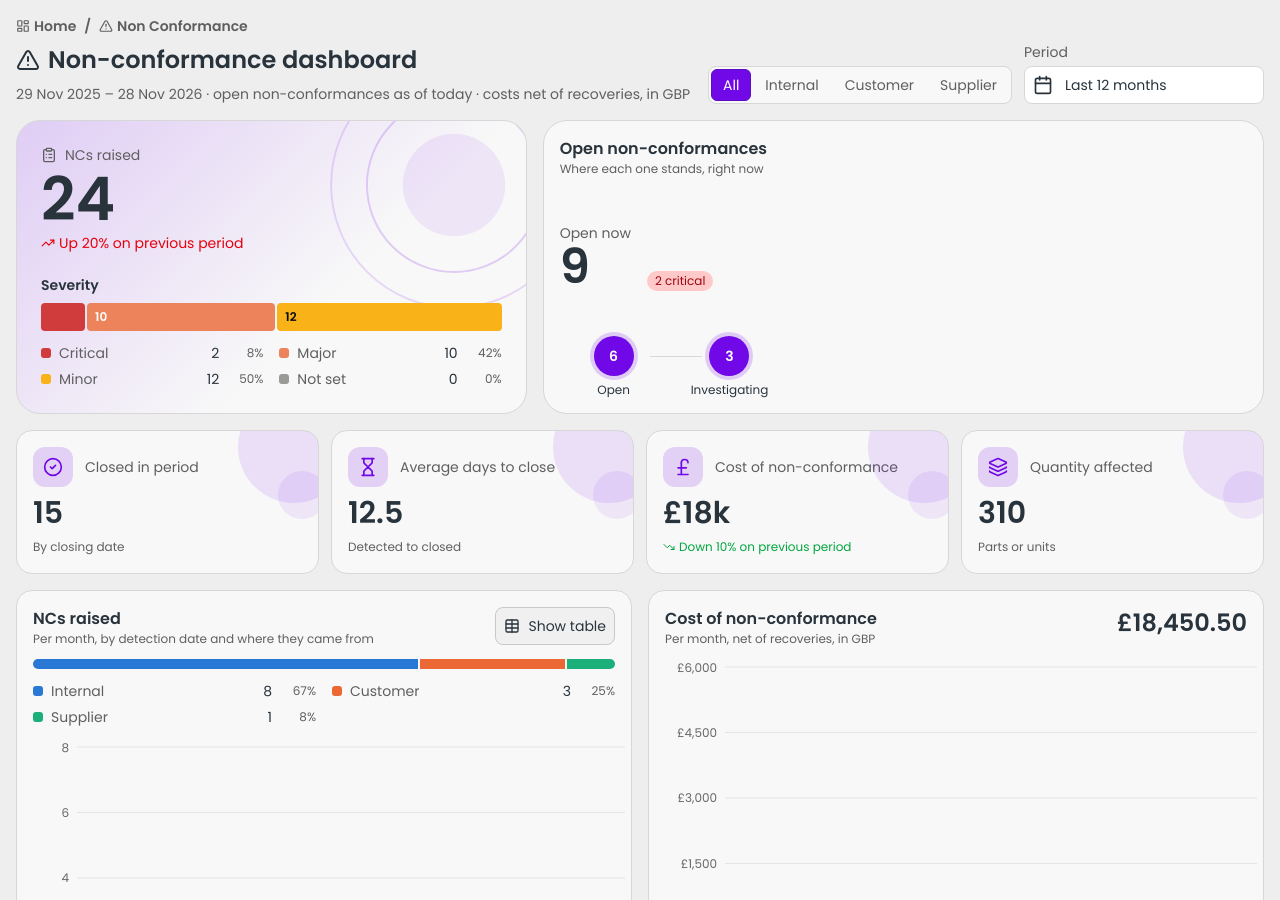
NC dashboard › filters by the Customer / Supplier tab and period, kept in the URL
Check: the link "NCs raised" is shown, box [16,120,527,414]
Click the radio button labelled "Customer".
click(879, 85)  # box [833,69,926,101]
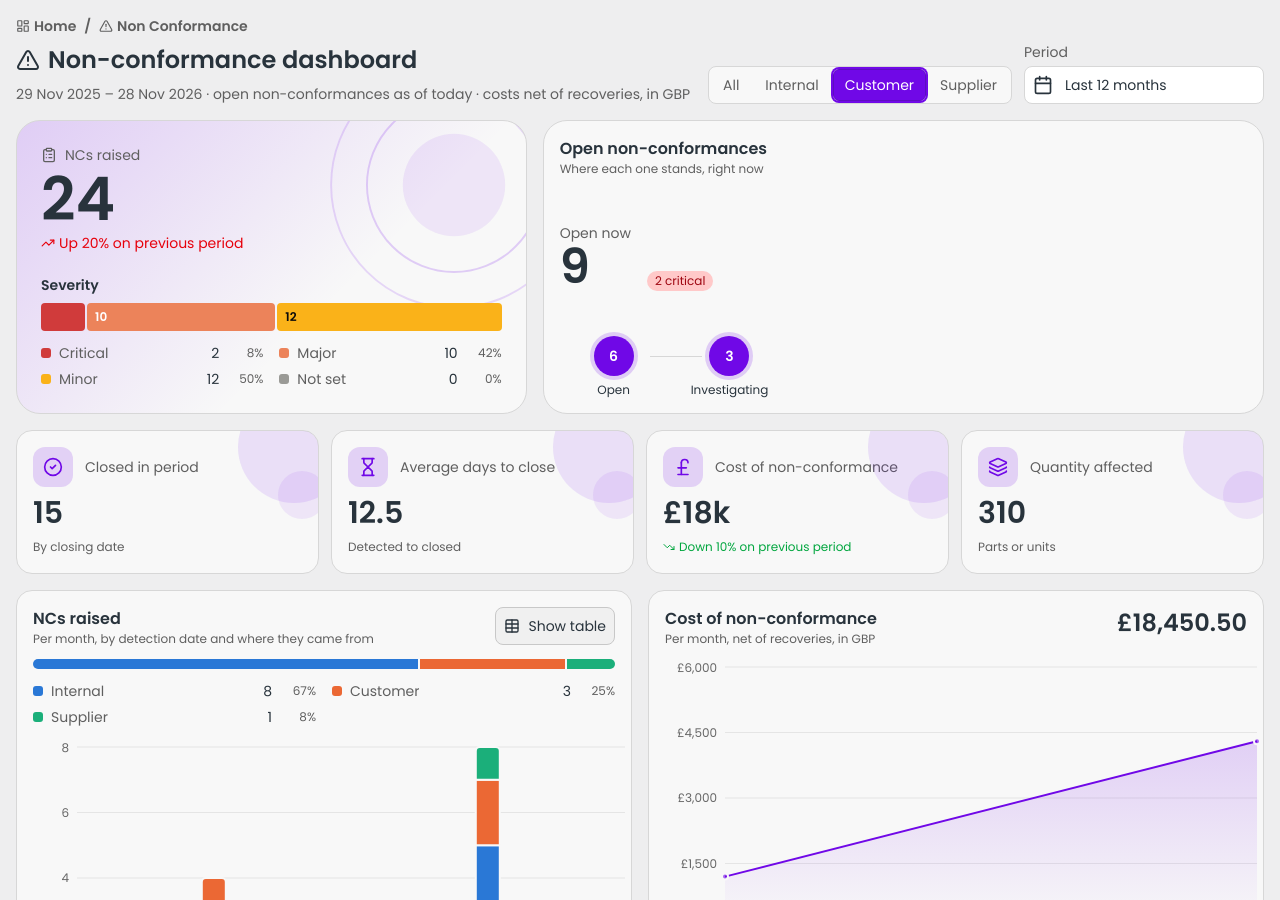
Click the button named "Period".
click(1144, 85)  # box [1024,66,1264,104]
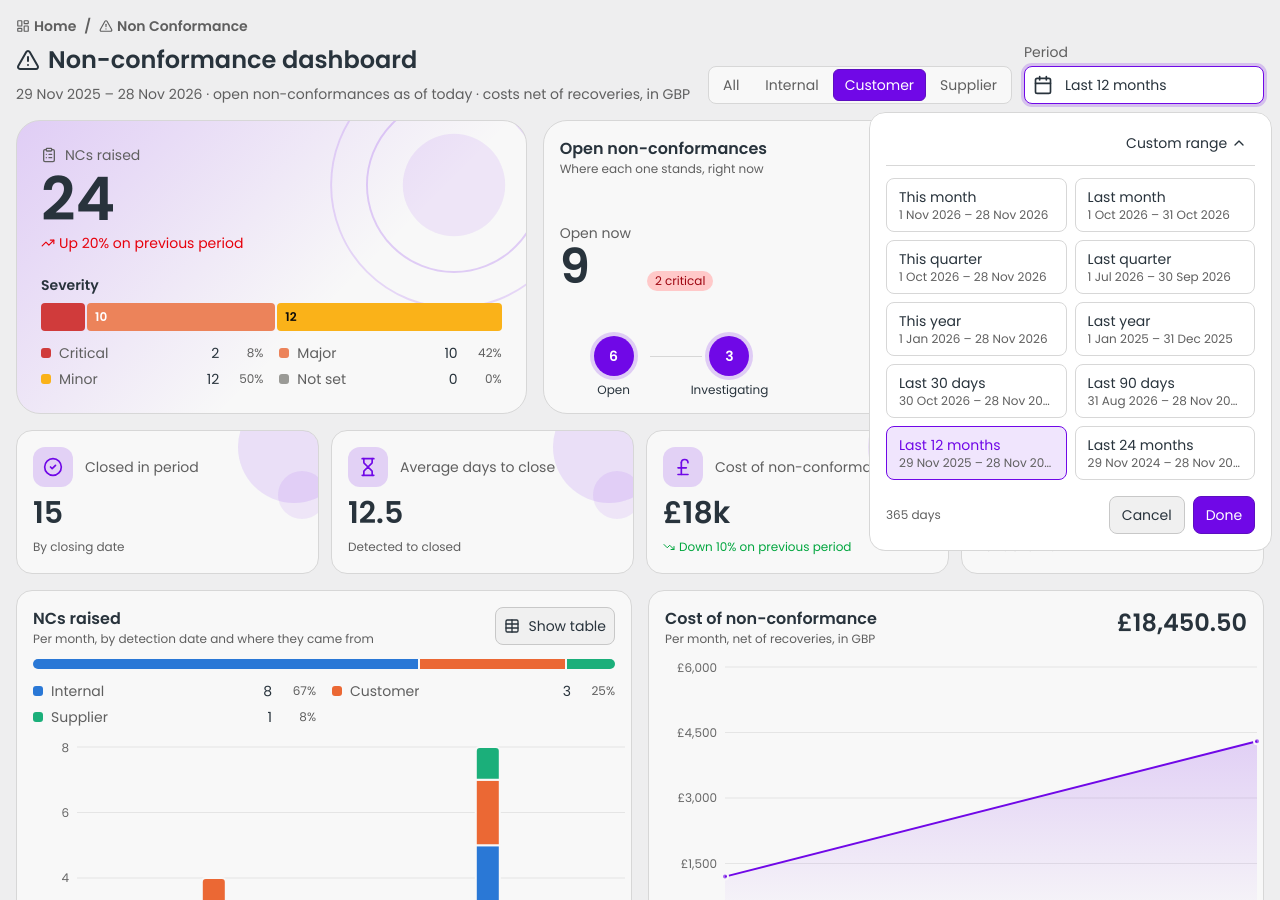
Click the button "Last 30 days 30 Oct 2026 – 28 Nov 2026".
click(976, 391)  # box [886,364,1067,418]
(page scrolled)
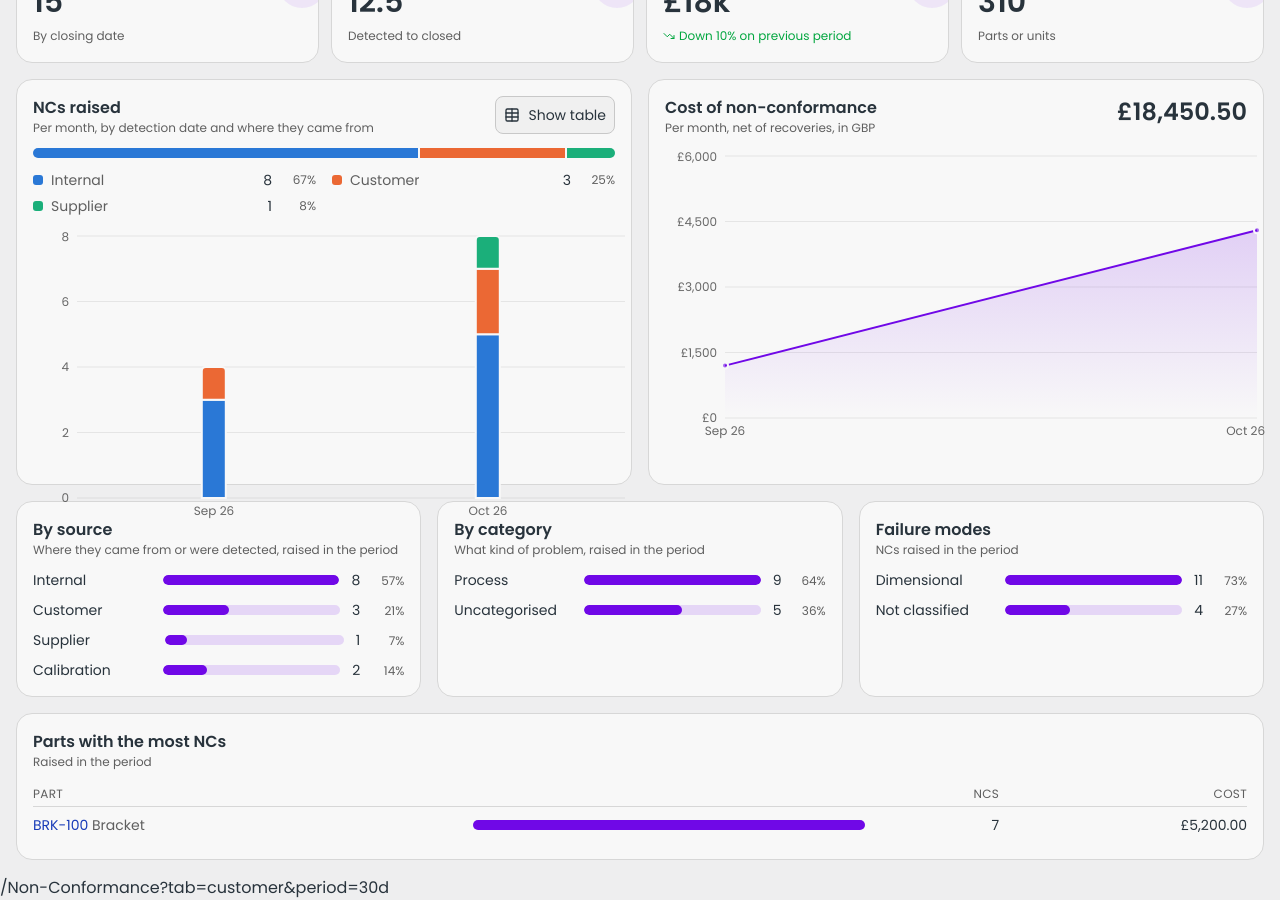
Check: the text with test id "where" reads "/Non-Conformance?tab=customer&period=30d", box [0,876,389,899]
Note: A part link goes to the register with that tab's source.
Click the link "BRK-100".
click(61, 825)  # box [33,815,88,835]
(page scrolled)
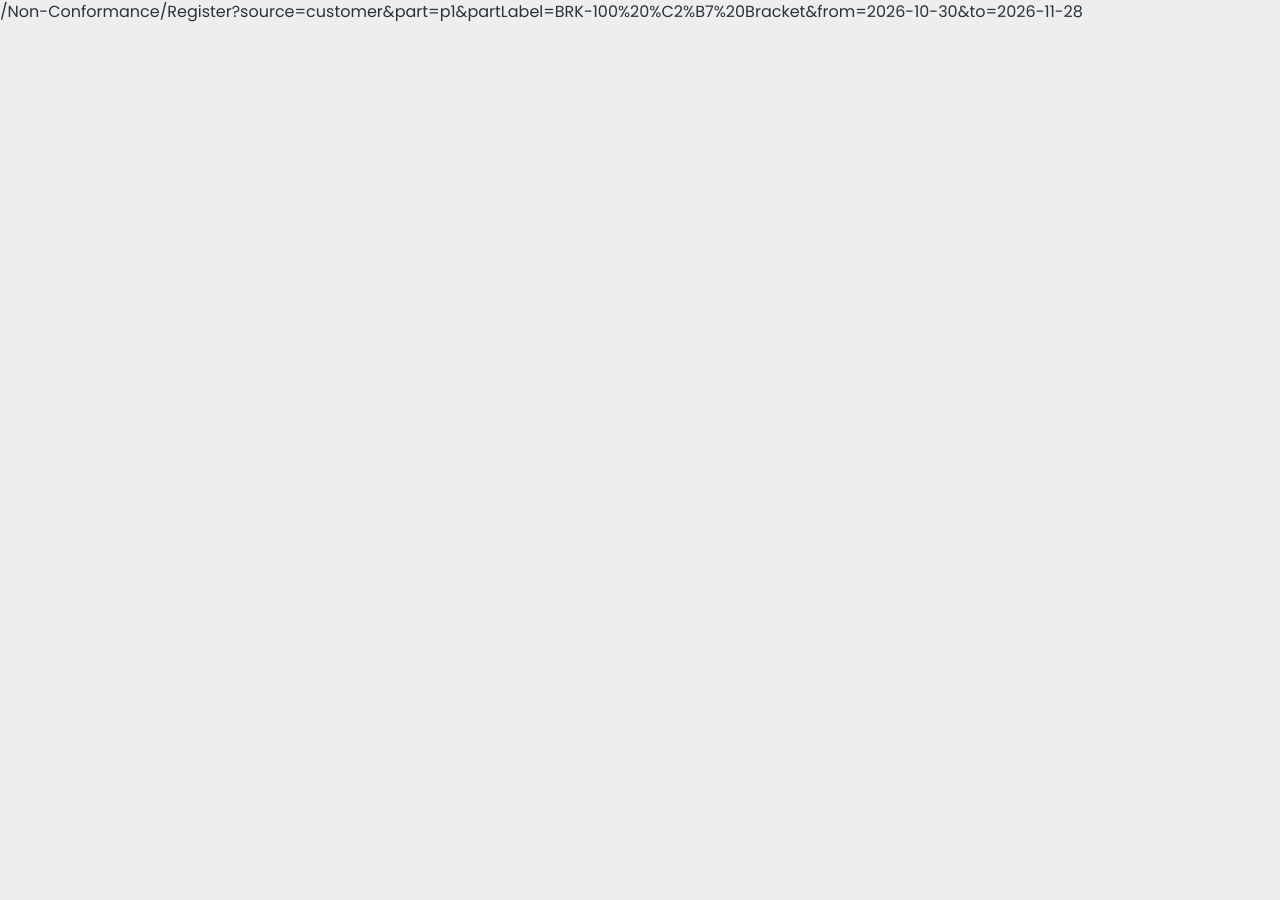
Check: the text with test id "where" shows "/Non-Conformance/Register?source=customer&part=p1&partLabel=BRK-100", box [0,0,1083,23]
